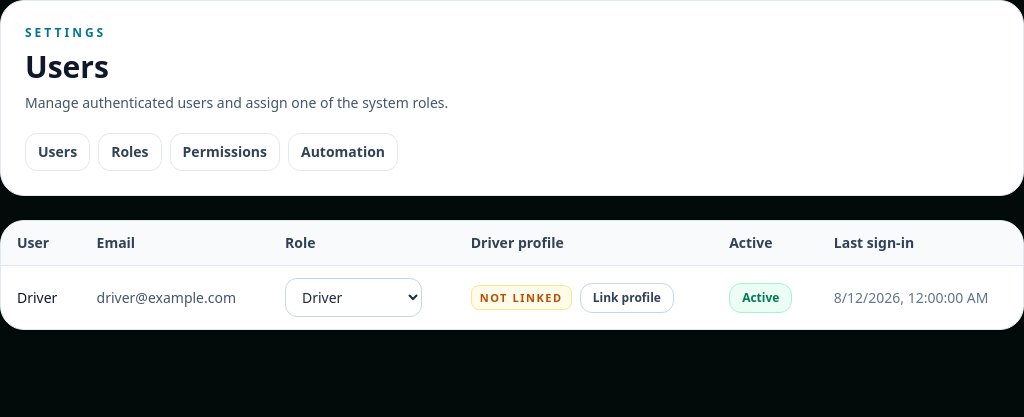
Scenario: SettingsUsersPage › allows explicit driver profile linking for existing Driver role assignments
What coordinates should you click on to do the following:
click the button "Link profile"
I would click on:
 (627, 298)
Its box is [580,282,674,312].
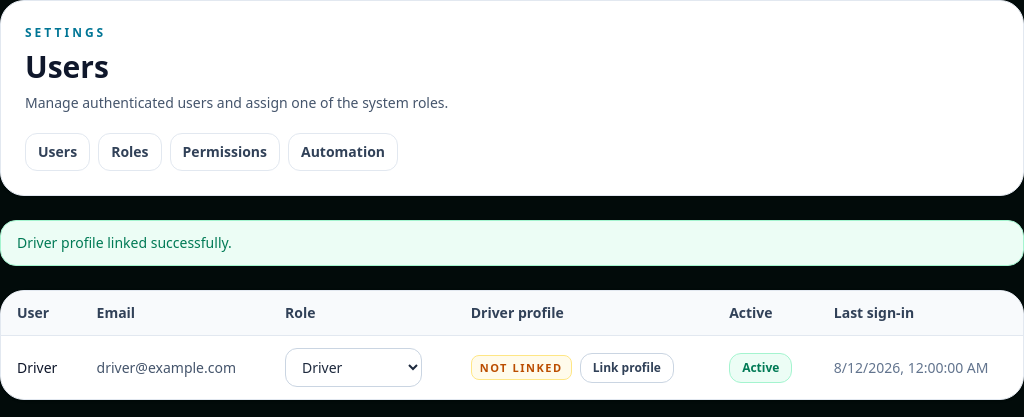
Check: the text "Driver profile linked successfully." is shown, box [0,220,1023,266]
